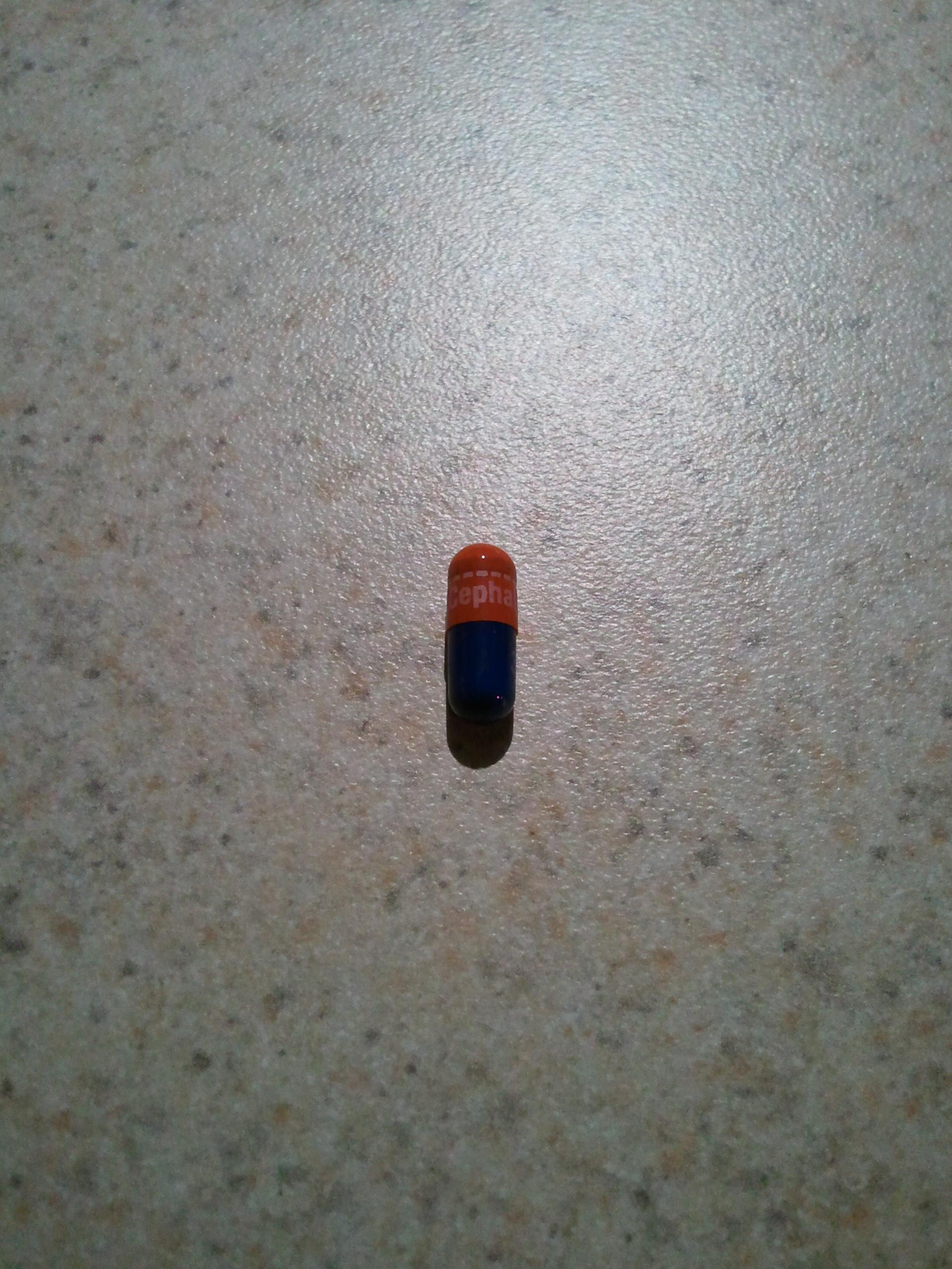Pill: (434, 525, 529, 747)
